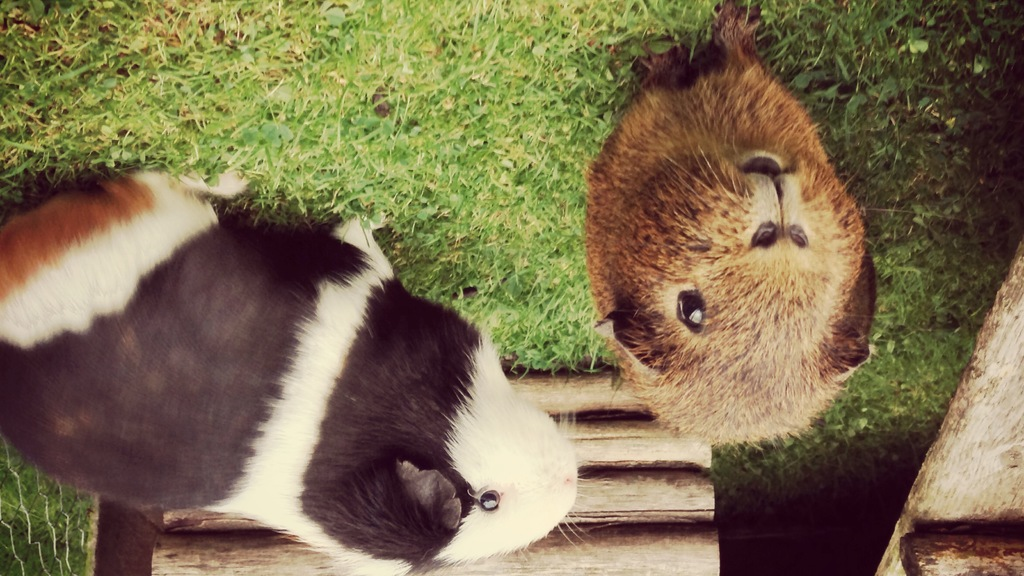Animal: (0, 164, 608, 574), (580, 0, 874, 450)
